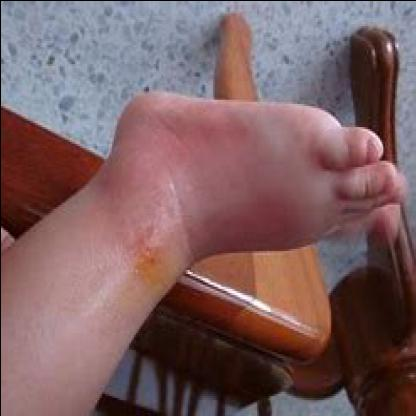Wasp: (106, 112, 300, 254)
